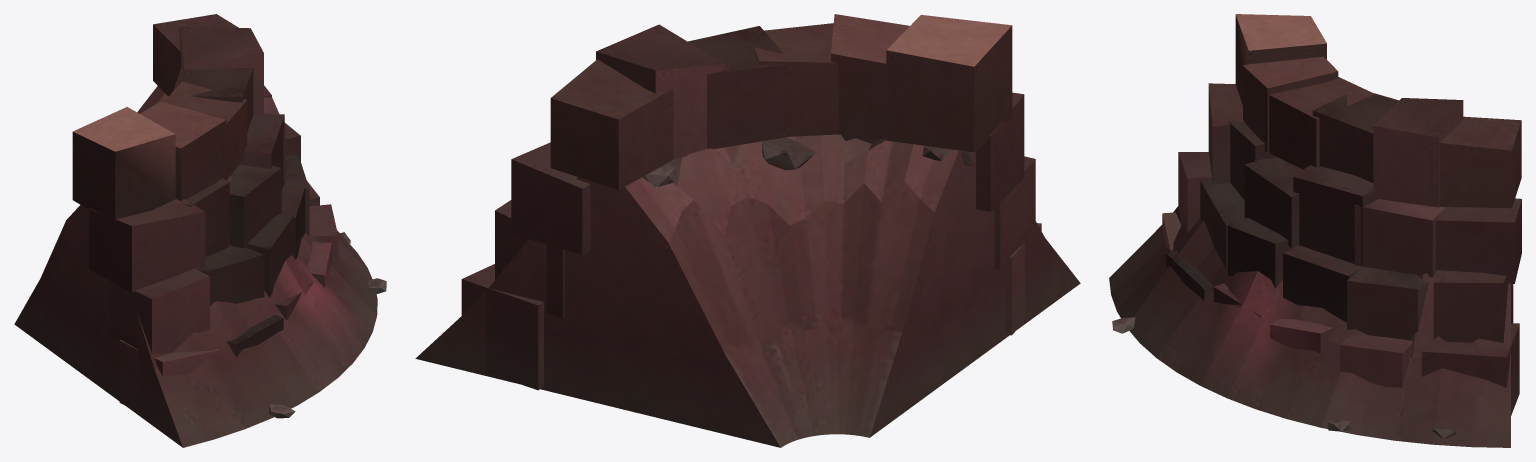
Rendered from cliff-fulgora-outer.glb.
3 views of the same model, side by side, from view 1: azimuth 30°, elevation 25°; view 2: azimuth 150°, elevation 25°; view 3: azimuth 270°, elevation 25° (orthographic). The views are drawn at different scales.
Visible parts, largest first — view 1: cliff-fulgora-outer; view 2: cliff-fulgora-outer; view 3: cliff-fulgora-outer.
Part boxes in pixels (left/top/right/bottom): cliff-fulgora-outer: left=14, top=14, right=386, bottom=447; cliff-fulgora-outer: left=415, top=14, right=1080, bottom=447; cliff-fulgora-outer: left=1109, top=14, right=1521, bottom=447.
Size of the model in its own units: 3.89 by 2.71 by 3.85.
2 materials, 2 textured.
